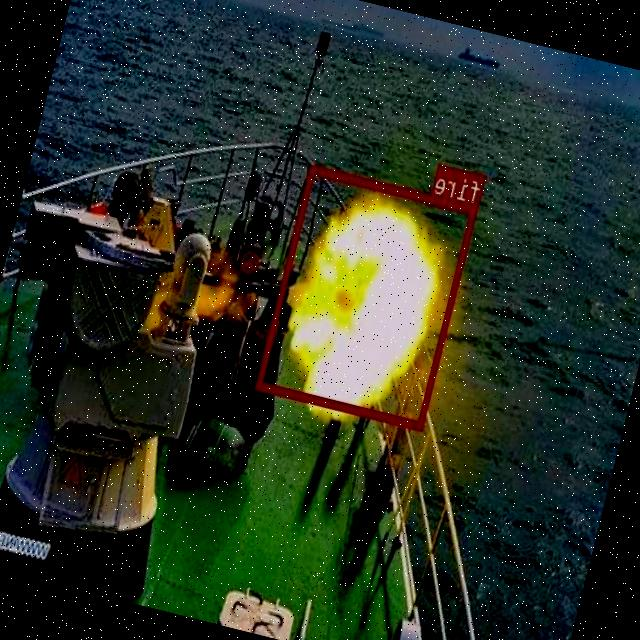fire: (256, 163, 479, 430)
